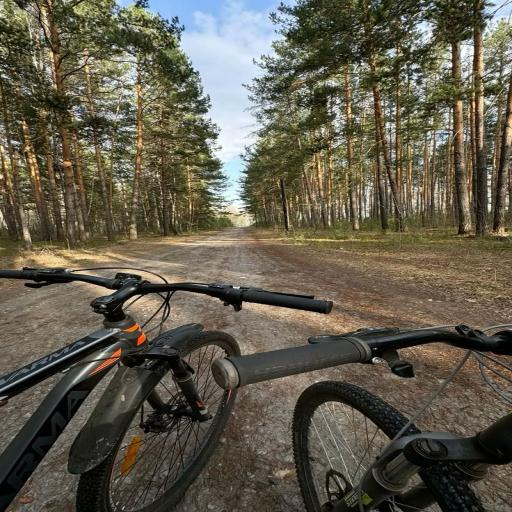bag: (0, 237, 336, 512), (204, 304, 512, 512)
ramp: (0, 219, 382, 512)
